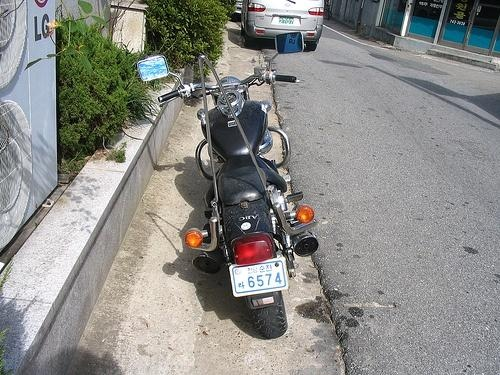car: (242, 1, 325, 52)
motorbike: (137, 55, 320, 340)
